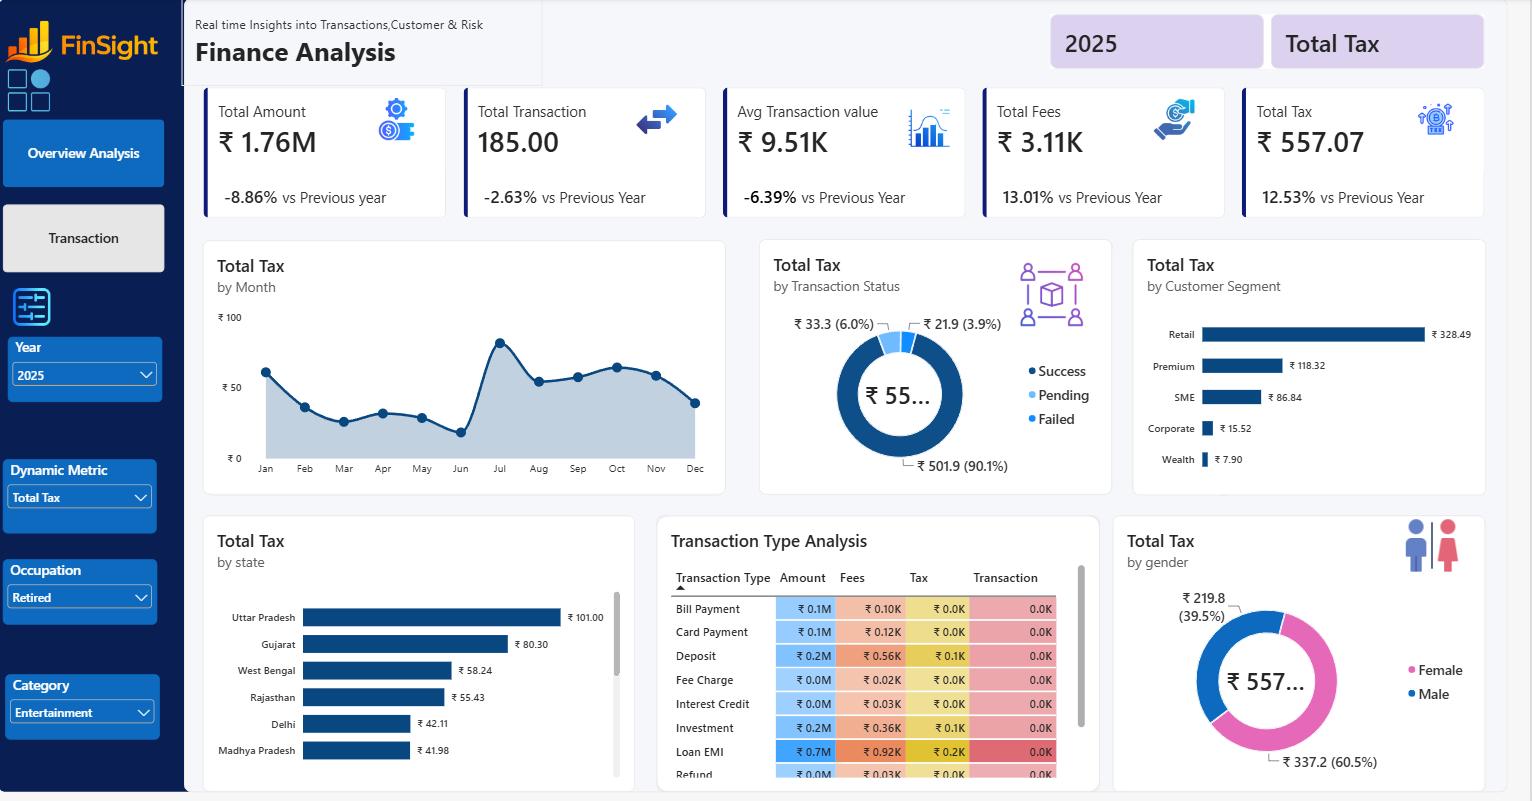

Layout of this report page (visuals, bound fields, positions):
{"tool":"powerbi","page":{"name":"Overview Analysis","canvas":[1800,950],"ordinal":0},"visuals":[{"type":"shape","box":[0,1.9,230,931.6],"z":0},{"type":"shape","box":[216.7,0,1555.1,933.5],"z":1},{"type":"image","box":[0,0,198.8,104.2],"z":2},{"type":"cardVisual","fields":{"Data":["finance_transactions.Dashboard Title"]},"box":[214.2,0,424.5,104.2],"z":3},{"type":"cardVisual","fields":{"Data":["finance_transactions.Total Amount","finance_transactions.Total Transaction","finance_transactions.Avg Transaction value","finance_transactions.Total Fees","finance_transactions.Total Tax"]},"box":[239.5,104.6,1507.6,155.9],"z":4},{"type":"slicer","fields":{"Values":["Calendar Table.Year"]},"box":[9.6,397.5,181.4,77.2],"z":5},{"type":"image","box":[441.1,117.9,53.2,49.4],"z":6},{"type":"image","box":[747.2,117.9,50,50],"z":7},{"type":"image","box":[1355.5,117.9,50,50],"z":8},{"type":"image","box":[1235.7,298.5,50,50],"z":9},{"type":"image","box":[1654,117.9,68.4,49.4],"z":10},{"type":"slicer","fields":{"Values":["Dynamic Metric.Dynamic Metric"]},"box":[3.8,541.8,180.6,87.5],"z":11},{"type":"shape","box":[239.5,285.2,615,300],"z":12},{"type":"areaChart","fields":{"Category":["Calendar Table.Month"],"Y":["finance_transactions.Total Tax"]},"box":[239.5,285.2,614.1,298.5],"z":13},{"type":"cardVisual","fields":{"Data":["finance_transactions.Selected Year","finance_transactions.Selected Dynamic Measure"]},"box":[1235.8,19.4,510.2,64],"z":14},{"type":"shape","box":[894.4,283.3,415,300],"z":15},{"type":"donutChart","fields":{"Category":["finance_transactions.transaction_status"],"Y":["finance_transactions.Total Tax"]},"box":[893.5,283.3,414.5,300.4],"z":16},{"type":"shape","box":[1330.9,283.3,415,300],"z":17},{"type":"barChart","fields":{"Category":["customers.customer_segment"],"Y":["finance_transactions.Total Tax"]},"box":[1332.7,283.3,415.2,300.7],"z":18},{"type":"shape","box":[239.5,608.4,507.6,325.1],"z":19},{"type":"barChart","fields":{"Category":["customers.state"],"Y":["finance_transactions.Total Tax"]},"box":[239.5,608.4,507.6,325.1],"z":20},{"type":"shape","box":[771.9,608.4,520.9,325.1],"z":21},{"type":"tableEx","title":"Transaction Type Analysis","fields":{"Values":["finance_transactions.transaction_type","finance_transactions.Total Amount","finance_transactions.Total Fees","finance_transactions.Total Tax","finance_transactions.Total Transaction"]},"box":[771.9,608.4,520.9,325.1],"z":22},{"type":"shape","box":[1308,608.4,439.2,325.1],"z":23},{"type":"donutChart","fields":{"Category":["customers.gender"],"Y":["finance_transactions.Total Tax"]},"box":[1308,608.4,437.3,325.1],"z":24},{"type":"image","box":[1100.8,117.9,1.9,60.8],"z":25},{"type":"image","box":[1068.4,127.4,50,50],"z":26},{"type":"image","box":[1193.9,308,85.6,79.8],"z":27},{"type":"image","box":[1623.6,608.4,121.7,70.3],"z":28},{"type":"slicer","fields":{"Values":["customers.occupation"]},"box":[3.8,659.7,181.4,77.2],"z":29},{"type":"slicer","fields":{"Values":["finance_transactions.merchant_category"]},"box":[7.6,794.7,181.4,77.2],"z":30},{"type":"pageNavigator","box":[3.8,142.6,190.1,180.6],"z":31},{"type":"image","box":[9.5,83.7,53.2,49.4],"z":32},{"type":"image","box":[13.3,338.4,50,50],"z":33}]}

Visuals, with their boxes on the page's 1800x950 design canvas (x1, y1, x2, y2). These are canvas units, not pixel positions in the 1532x801 screenshot, which may show the page scaled, cropped or inside an application window:
shape: rect(0, 2, 230, 934)
shape: rect(217, 0, 1772, 934)
image: rect(0, 0, 199, 104)
cardVisual - finance_transactions.Dashboard Title: rect(214, 0, 639, 104)
cardVisual - finance_transactions.Total Amount x finance_transactions.Total Transaction: rect(240, 105, 1747, 260)
slicer - Calendar Table.Year: rect(10, 398, 191, 475)
image: rect(441, 118, 494, 167)
image: rect(747, 118, 797, 168)
image: rect(1356, 118, 1406, 168)
image: rect(1236, 298, 1286, 348)
image: rect(1654, 118, 1722, 167)
slicer - Dynamic Metric.Dynamic Metric: rect(4, 542, 184, 629)
shape: rect(240, 285, 854, 585)
areaChart - Calendar Table.Month x finance_transactions.Total Tax: rect(240, 285, 854, 584)
cardVisual - finance_transactions.Selected Year x finance_transactions.Selected Dynamic Measure: rect(1236, 19, 1746, 83)
shape: rect(894, 283, 1309, 583)
donutChart - finance_transactions.transaction_status x finance_transactions.Total Tax: rect(894, 283, 1308, 584)
shape: rect(1331, 283, 1746, 583)
barChart - customers.customer_segment x finance_transactions.Total Tax: rect(1333, 283, 1748, 584)
shape: rect(240, 608, 747, 934)
barChart - customers.state x finance_transactions.Total Tax: rect(240, 608, 747, 934)
shape: rect(772, 608, 1293, 934)
"Transaction Type Analysis" tableEx: rect(772, 608, 1293, 934)
shape: rect(1308, 608, 1747, 934)
donutChart - customers.gender x finance_transactions.Total Tax: rect(1308, 608, 1745, 934)
image: rect(1101, 118, 1103, 179)
image: rect(1068, 127, 1118, 177)
image: rect(1194, 308, 1280, 388)
image: rect(1624, 608, 1745, 679)
slicer - customers.occupation: rect(4, 660, 185, 737)
slicer - finance_transactions.merchant_category: rect(8, 795, 189, 872)
pageNavigator: rect(4, 143, 194, 323)
image: rect(10, 84, 63, 133)
image: rect(13, 338, 63, 388)
